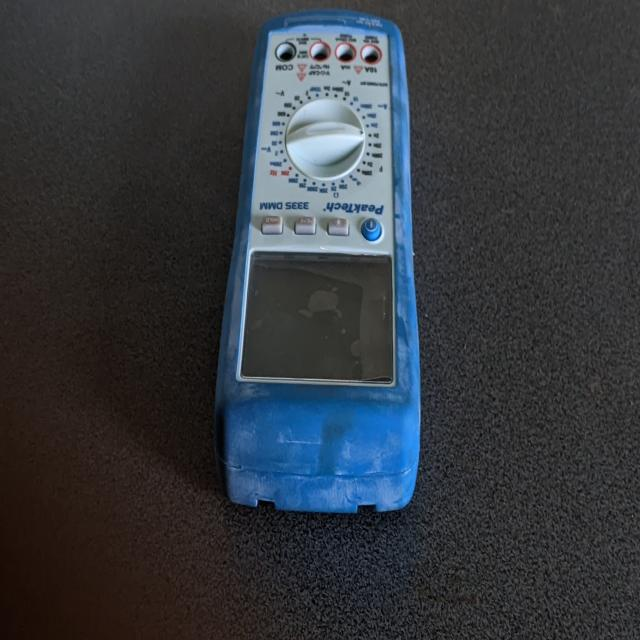Digital Multimeter: (216, 7, 429, 547)
